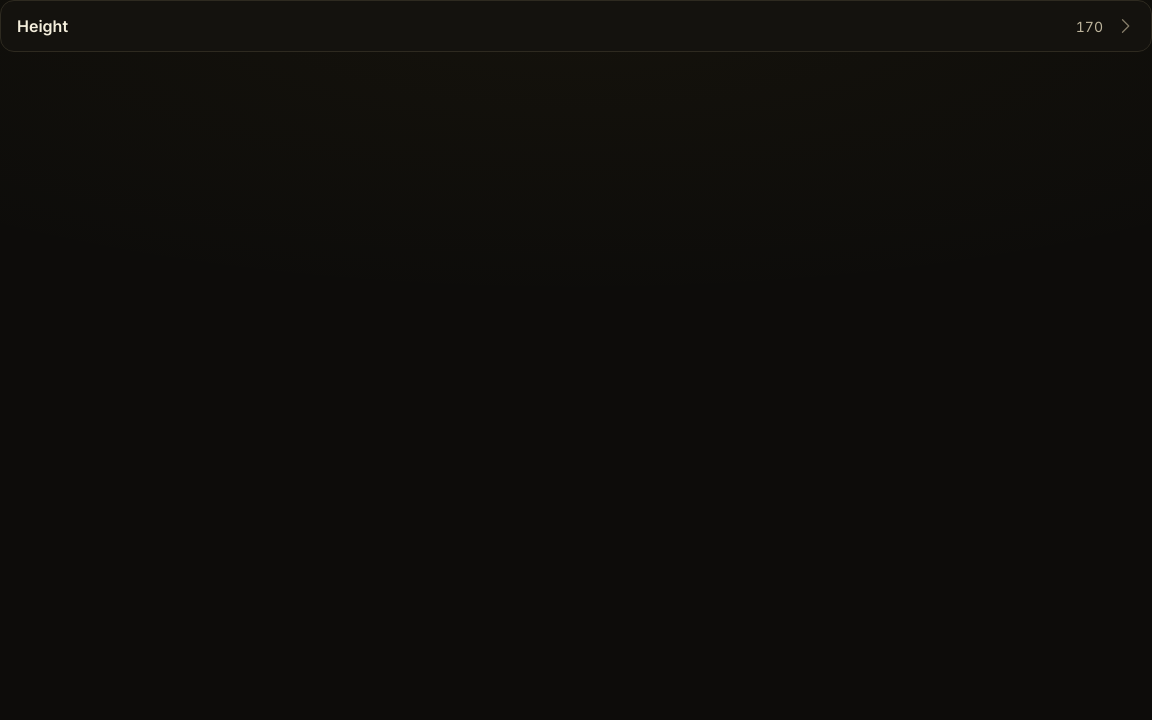
Scenario: NumberRow: wheel in Premium, stepper in Classic › classic keeps the stepper and shows no wheel and no link
Click the button "Height 170" at {"x": 43, "y": 26}, box [0, 0, 1151, 52]
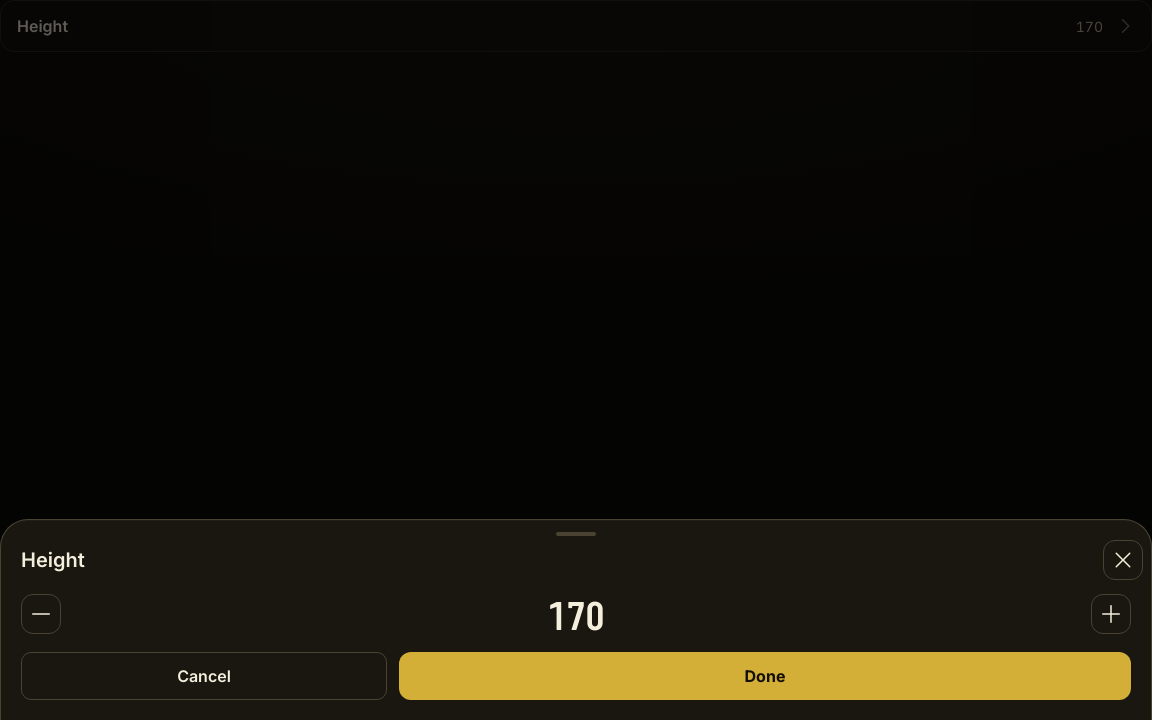
Expected: the element with class "sf-stepper" is shown, [21, 592, 1131, 636]
